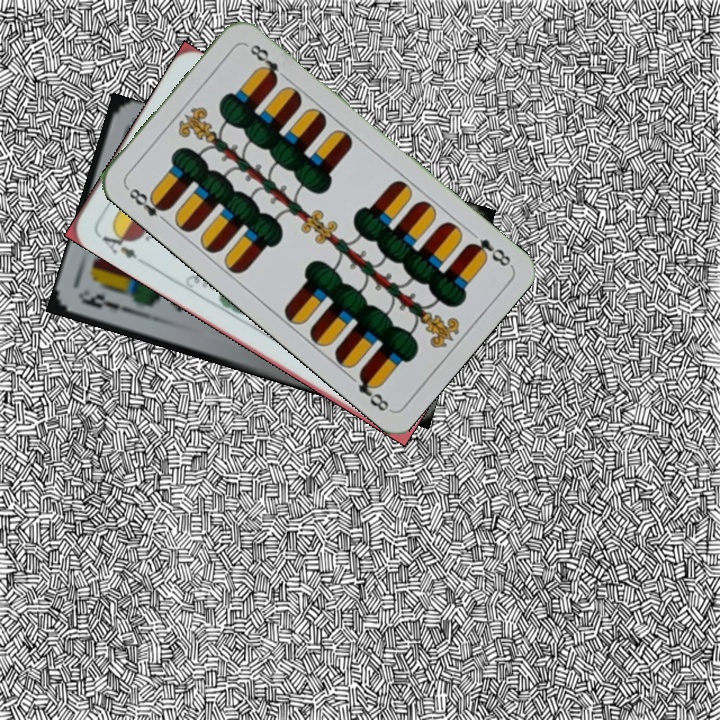E8: (122, 182, 172, 226), (464, 234, 514, 269)
EA: (93, 224, 140, 262)
EK: (77, 290, 134, 316)
